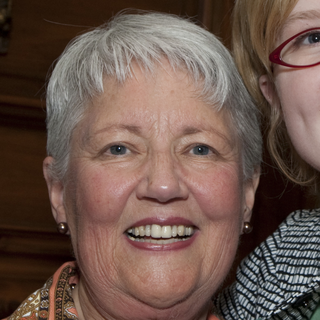eye: (94, 139, 143, 163), (176, 139, 223, 163)
